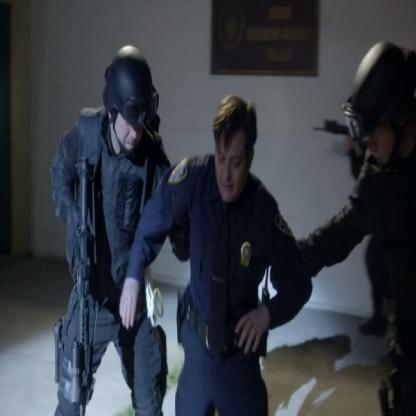Guns: (67, 154, 92, 415), (310, 112, 366, 151)
